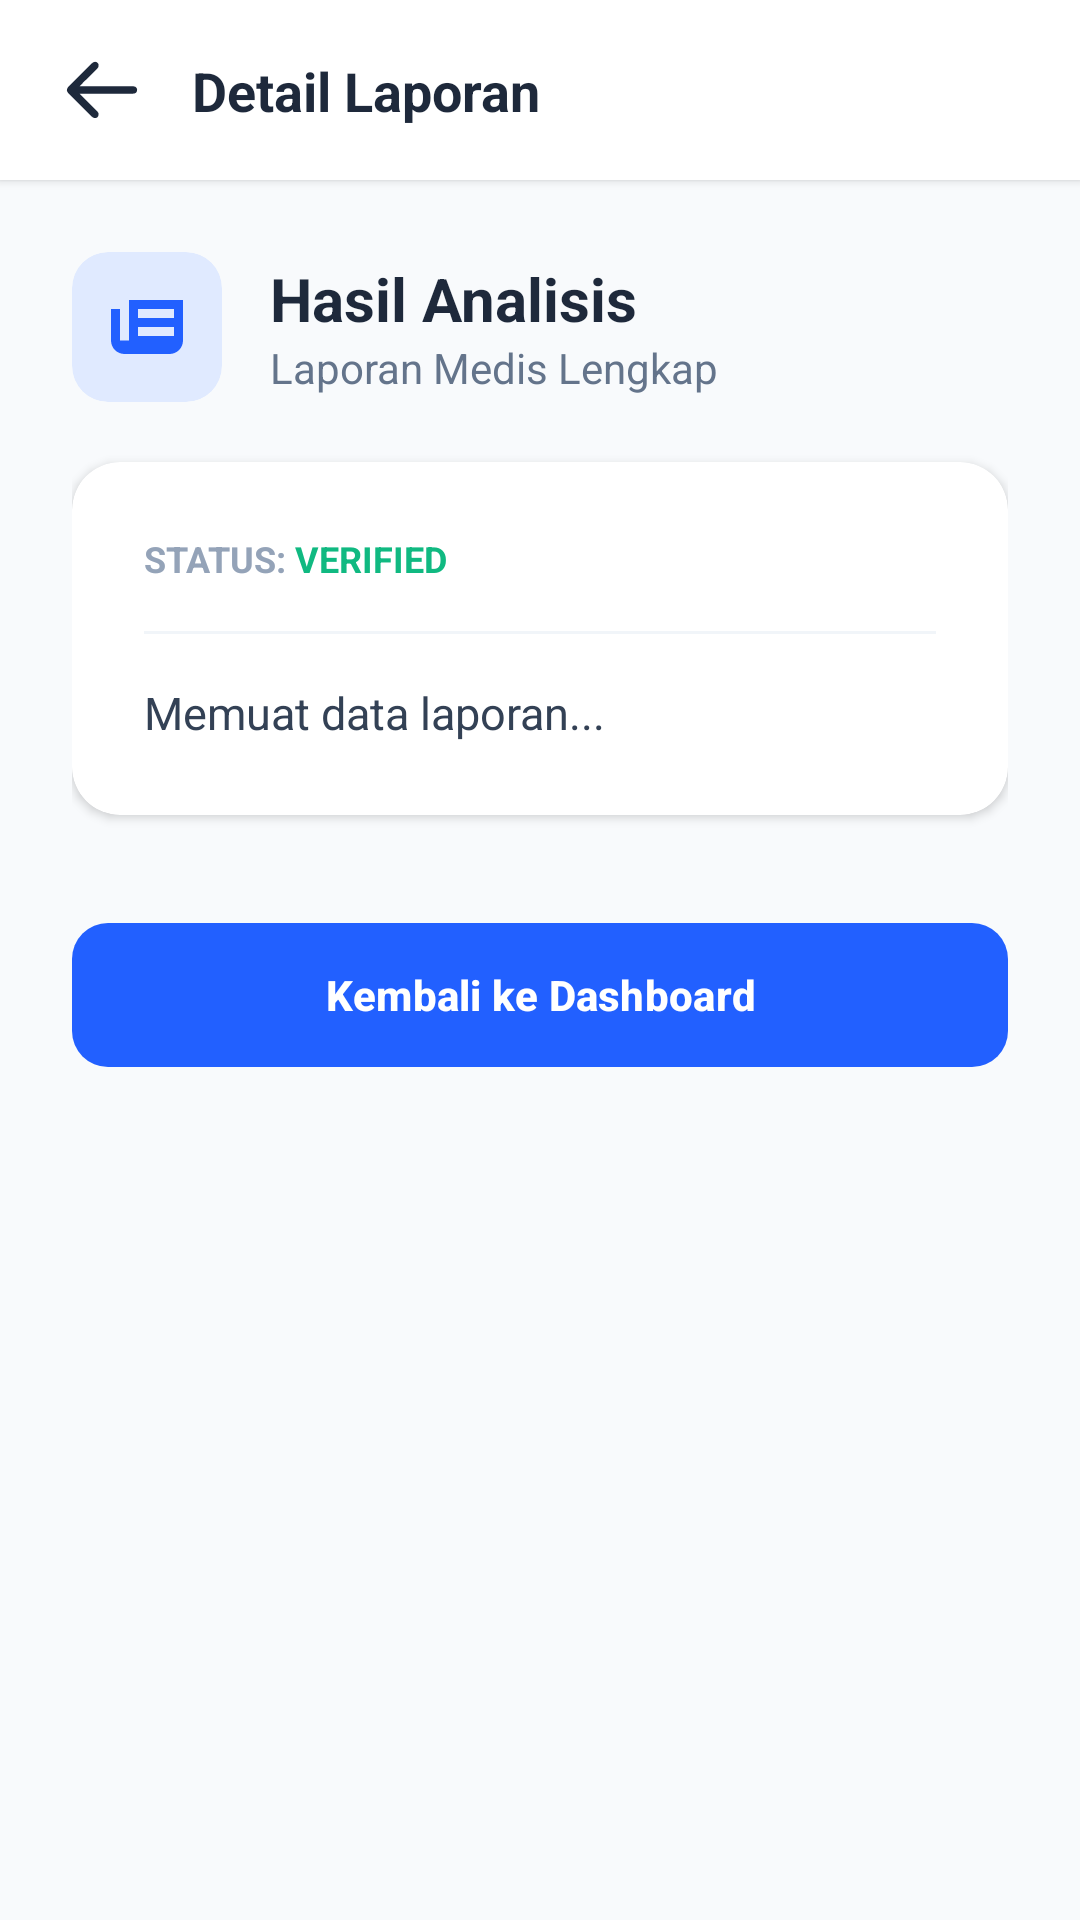

Named icons in this screenshot (1080w x 1920h) and their bounding boxes, (x1, y1, x2, y2):
arrow back: (67, 61, 137, 118)
newspaper: (111, 300, 183, 354)
